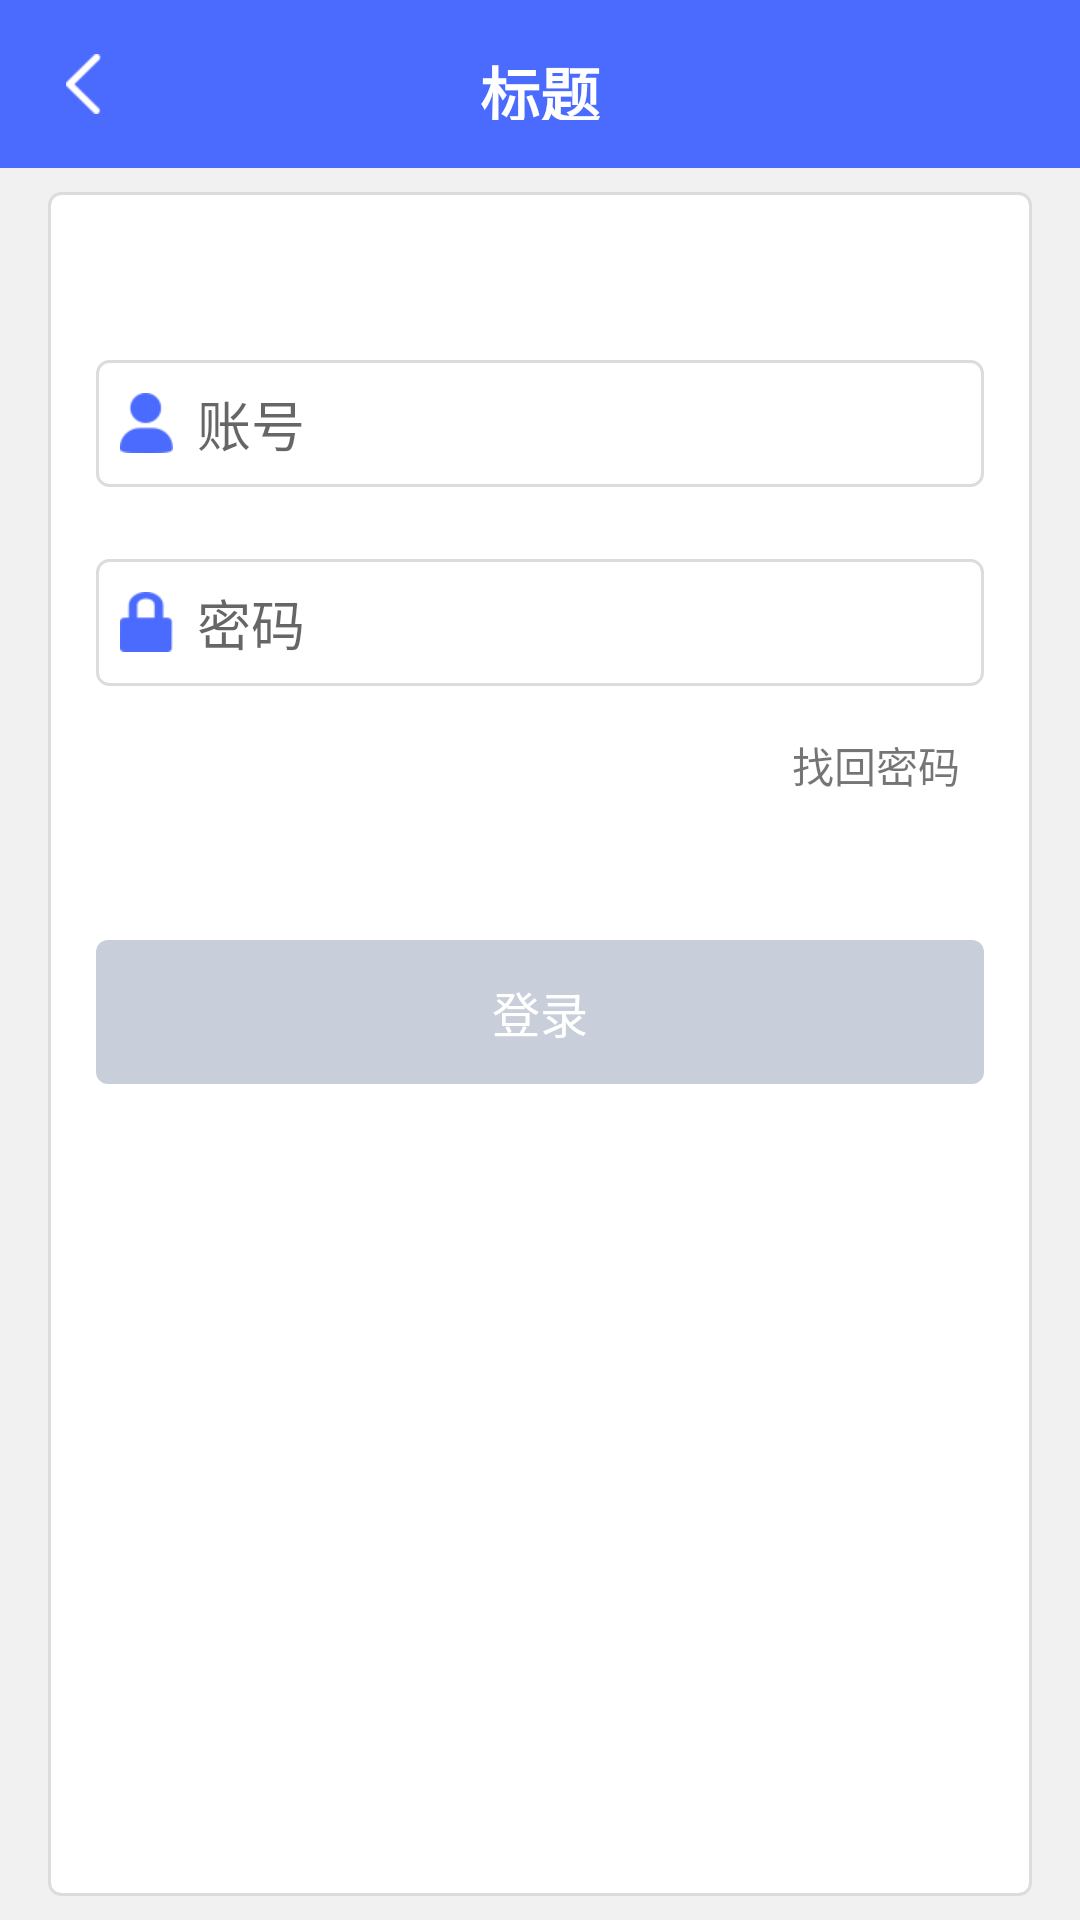

Icon bounding boxes for this 1080x1920 phone screenshot, format [x1,y1,x2,y2]:
back: [66,54,101,114]
